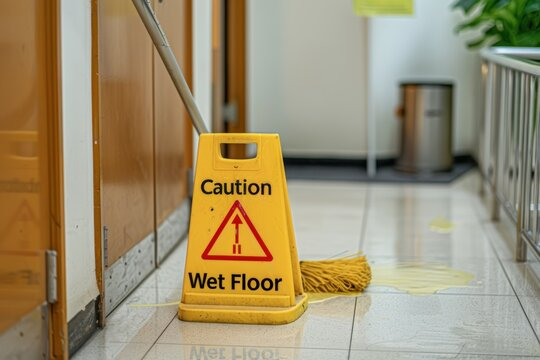wet caution sign: (178, 129, 306, 315)
